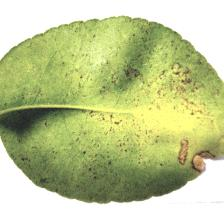canker: (95, 51, 220, 186)
